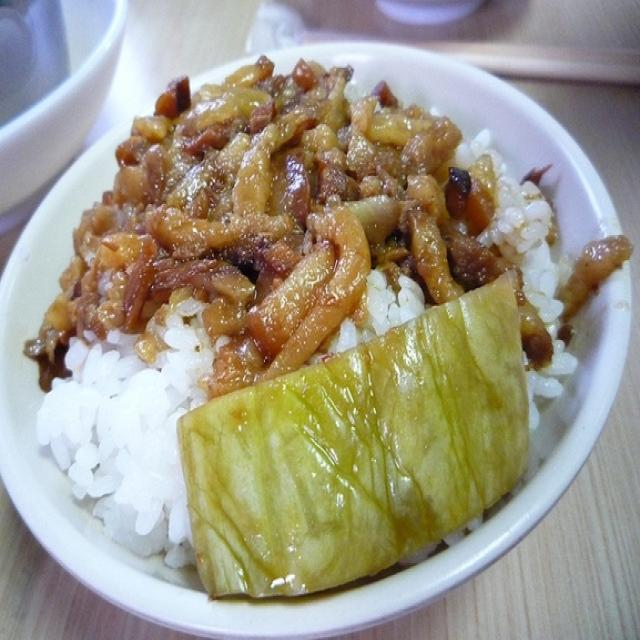猪肉菜式: (33, 47, 576, 572)
